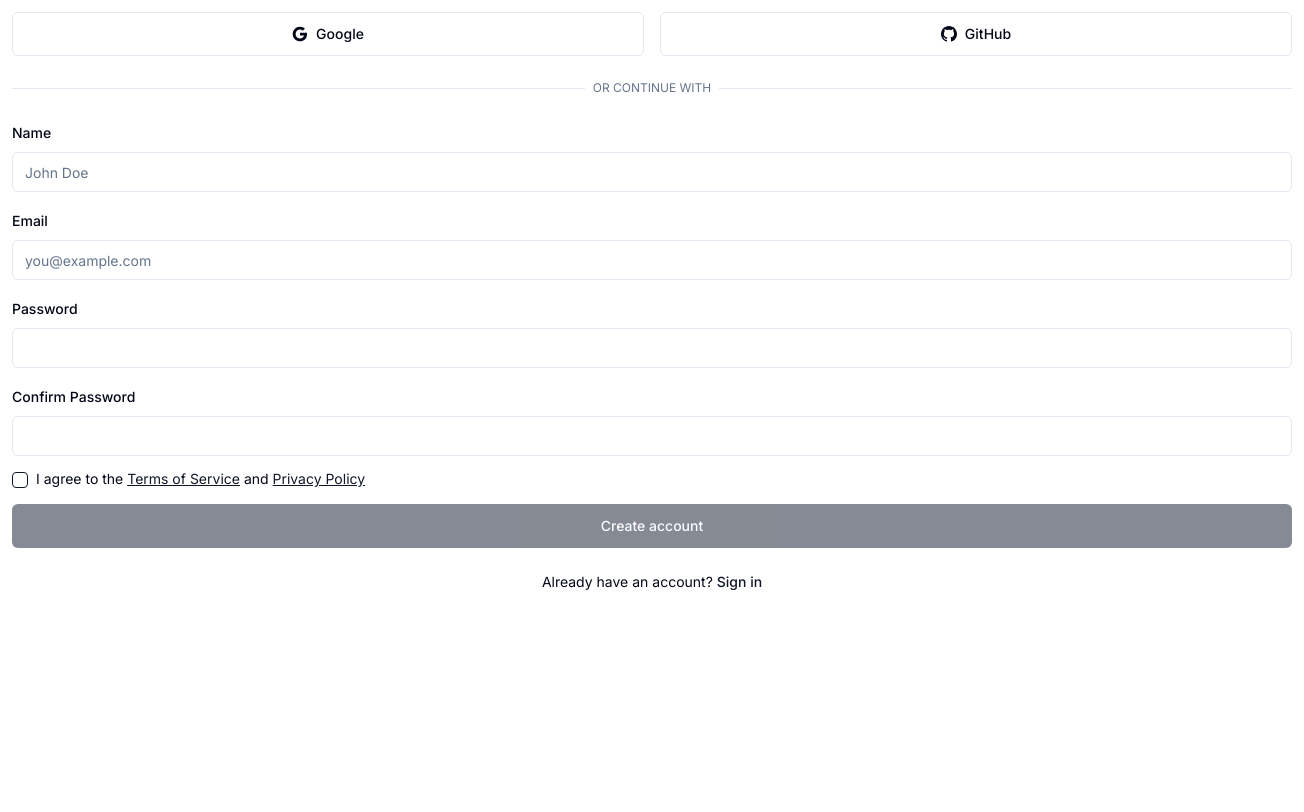
Test: RegisterForm › Inline Validation › shows inline error for empty name on blur
Click the field with test id "name".
click(652, 172)  # box [12,152,1292,192]
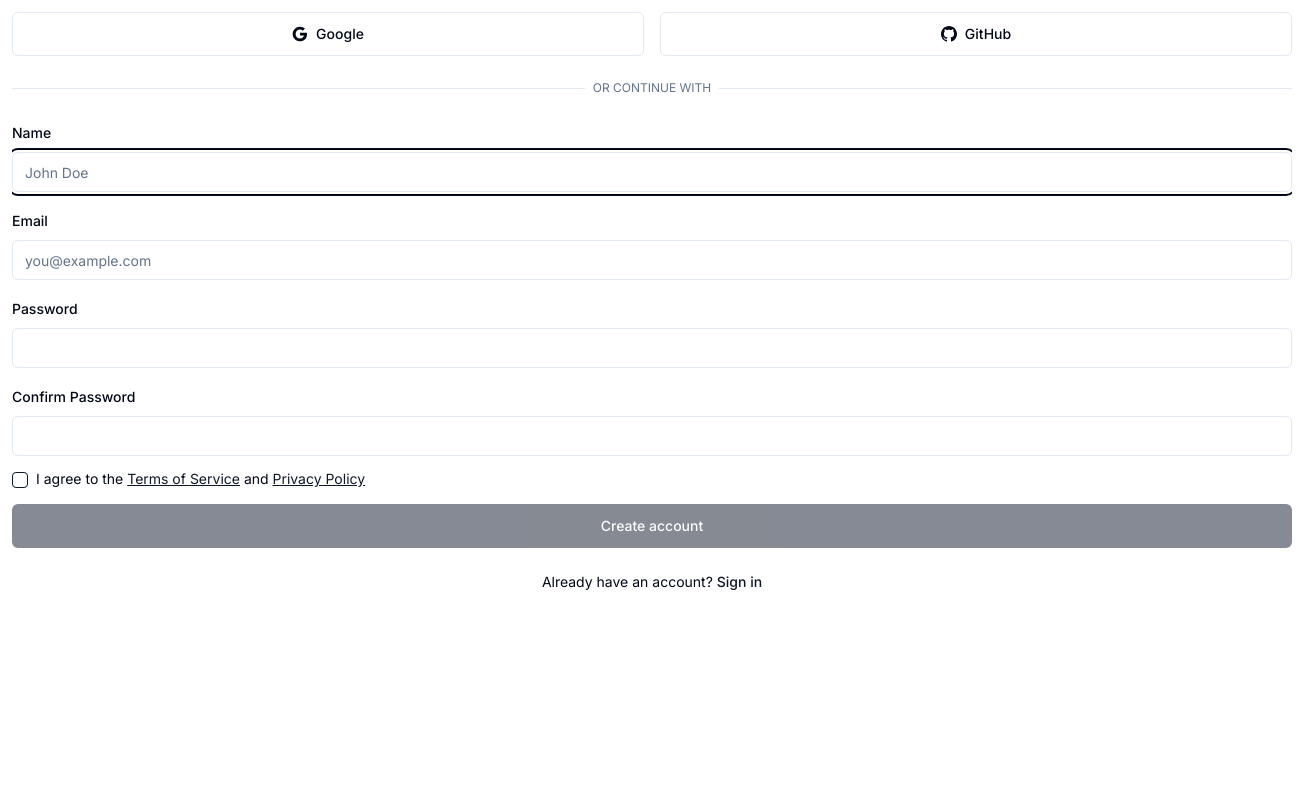
Press Tab
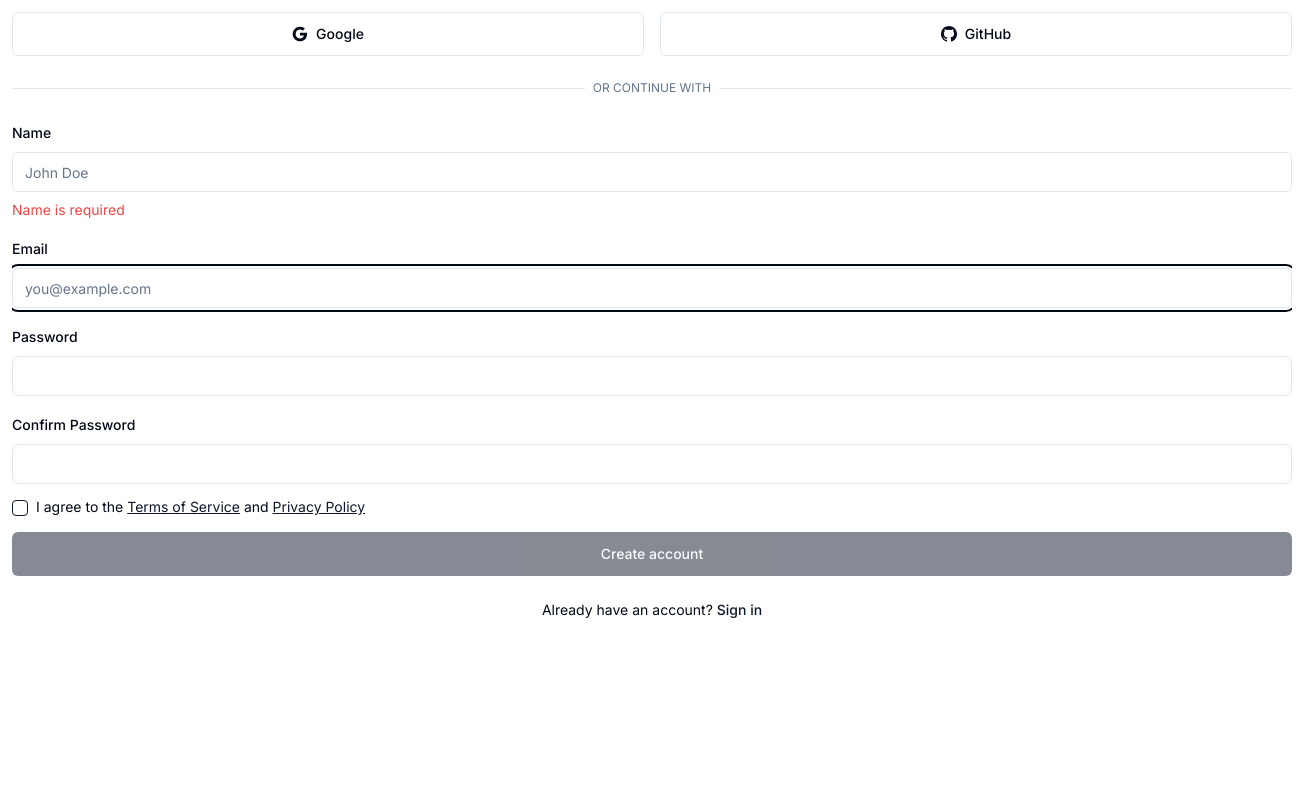
Now the text "Name is required" is shown, box [12,201,125,218]
